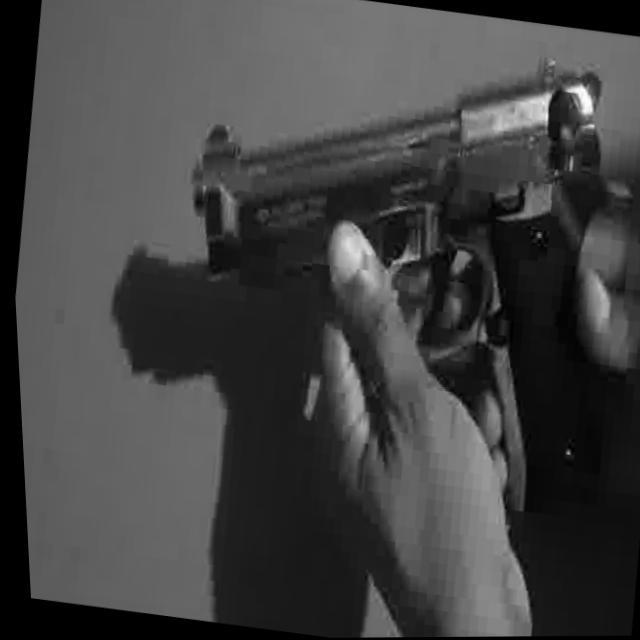weapon: (140, 8, 640, 541)
